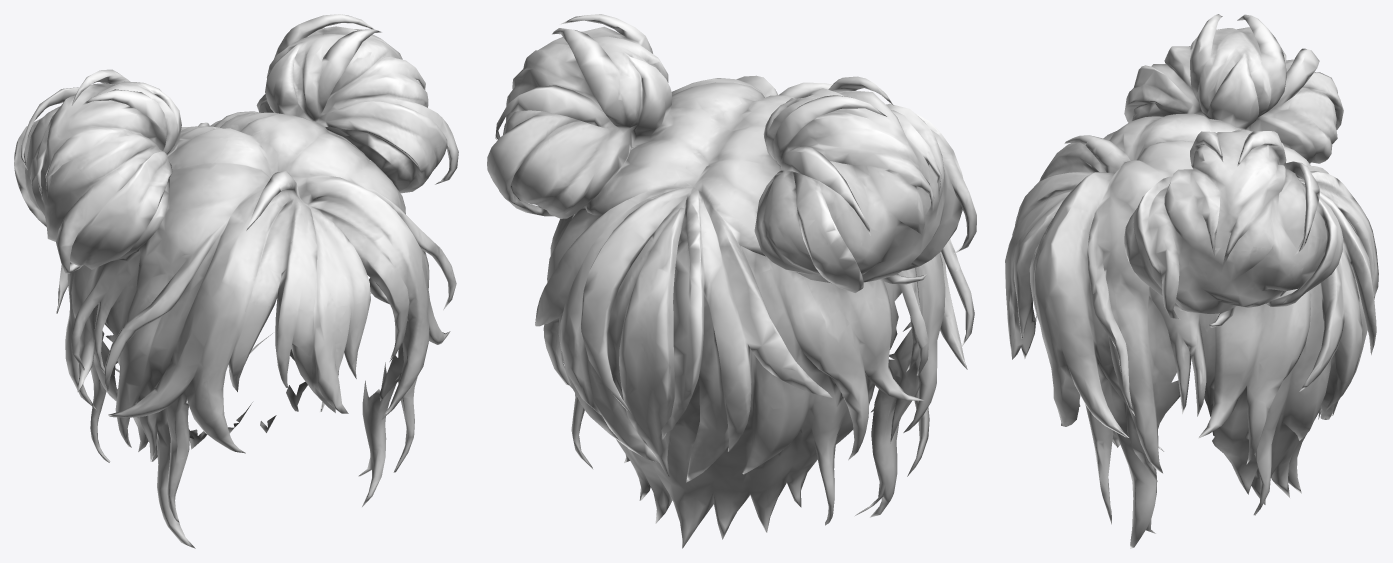
Rendered from hair-buns.glb.
3 views of the same model, side by side, from view 1: azimuth 30°, elevation 25°; view 2: azimuth 150°, elevation 25°; view 3: azimuth 270°, elevation 25° (orthographic). The views are drawn at different scales.
Visible parts, largest first — view 1: tripo_node_7a0e50a8-c7cb-46e3-8ab4-cf565c6e998a; view 2: tripo_node_7a0e50a8-c7cb-46e3-8ab4-cf565c6e998a; view 3: tripo_node_7a0e50a8-c7cb-46e3-8ab4-cf565c6e998a.
Boxes of the visible parts, x1=… form: tripo_node_7a0e50a8-c7cb-46e3-8ab4-cf565c6e998a: x1=14, y1=14, x2=458, y2=548; tripo_node_7a0e50a8-c7cb-46e3-8ab4-cf565c6e998a: x1=487, y1=14, x2=976, y2=548; tripo_node_7a0e50a8-c7cb-46e3-8ab4-cf565c6e998a: x1=1005, y1=14, x2=1378, y2=548.
Size of the model in its own units: 0.3224 by 0.3397 by 0.266.
Materials: 1 (1 with a texture image).
